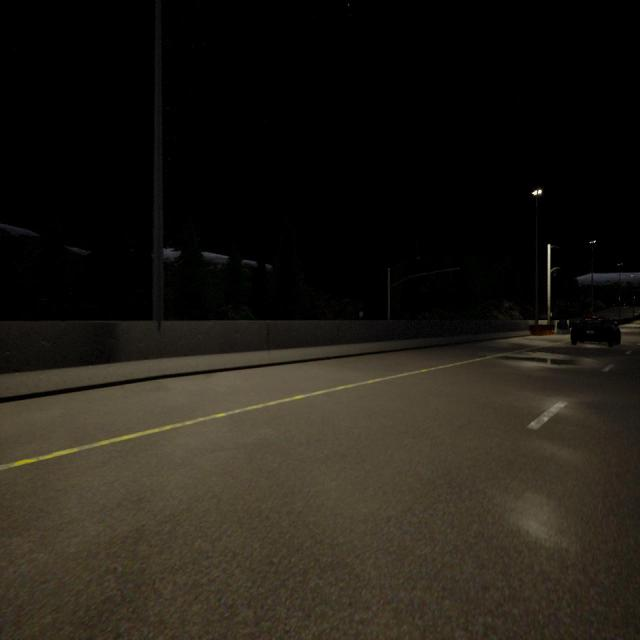Vehicle: (570, 316, 620, 347)
